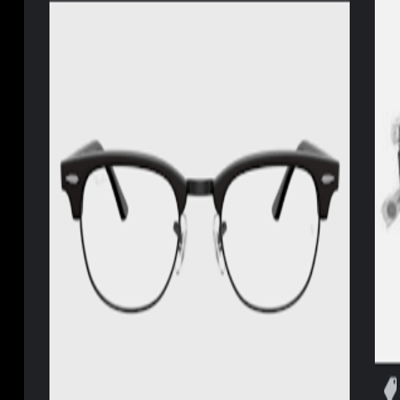glasses: (56, 134, 341, 319)
